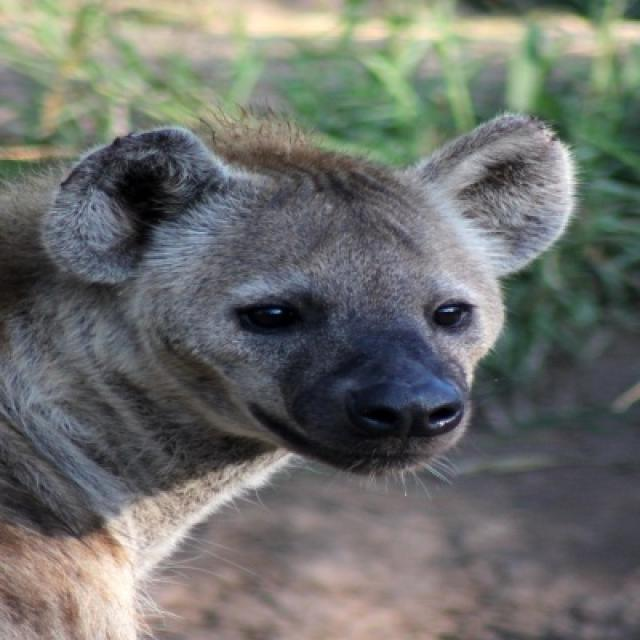hyena: (0, 112, 581, 638)
